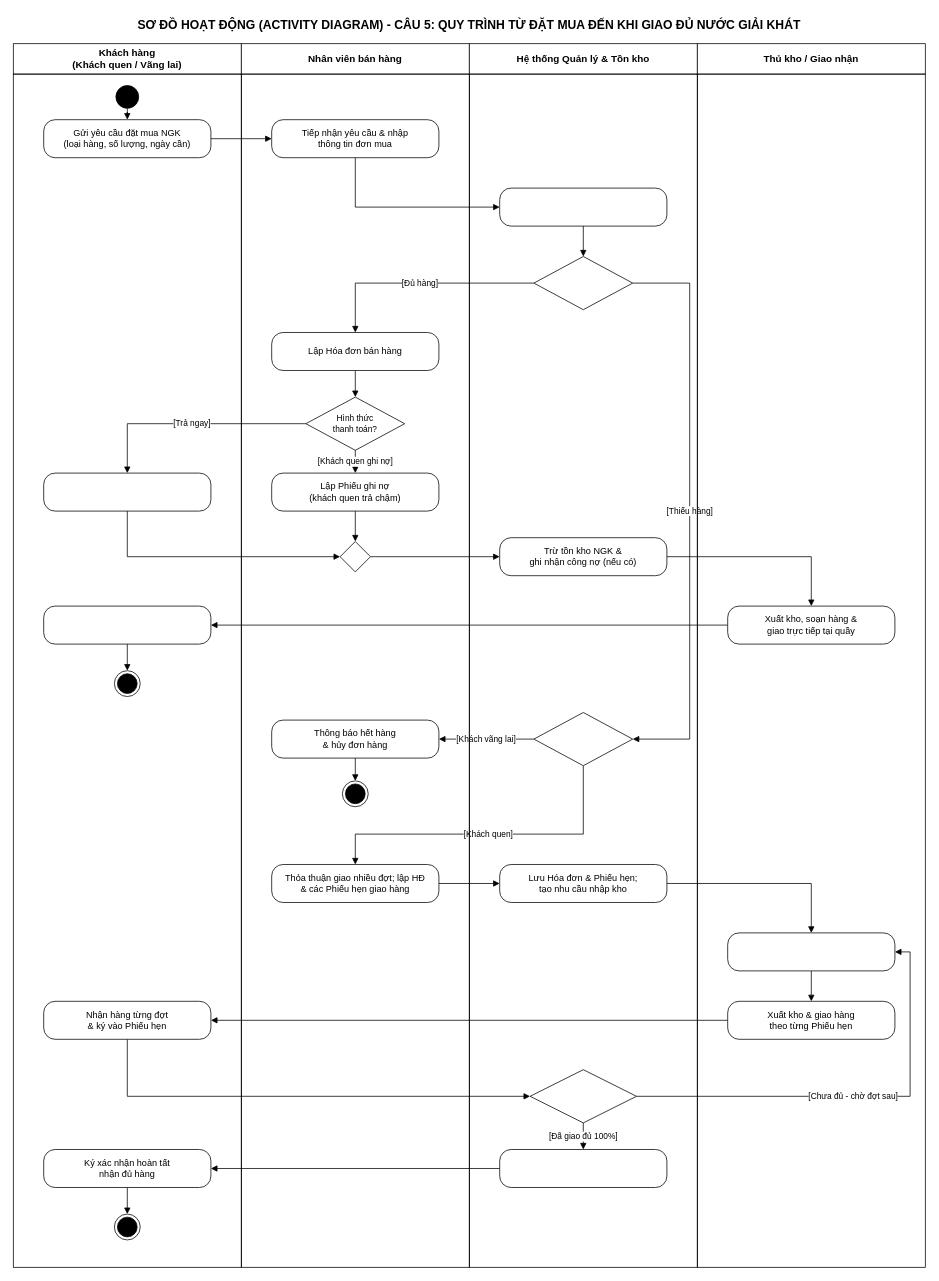
Image size: 939x1281. Some labels were removed from this diagram. Here are the shapes that lost their labels. From the top down, the centre of each, then its label:
[583,206]: Truy vấn tồn kho hiện tại so với số lượng đặt
[583,283]: Đủ tồn kho?
[127,491]: Thanh toán 100% tiền hàng (tiền mặt / chuyển khoản)
[127,624]: Nhận hàng, kiểm tra & ký biên nhận
[583,739]: Loại khách hàng?
[811,951]: Nhập NGK từ ĐĐH của nhà cung ứng
[582,1096]: Đã giao đủ 100% hàng?
[583,1168]: Cập nhật Hóa đơn sang trạng thái hoàn tất
